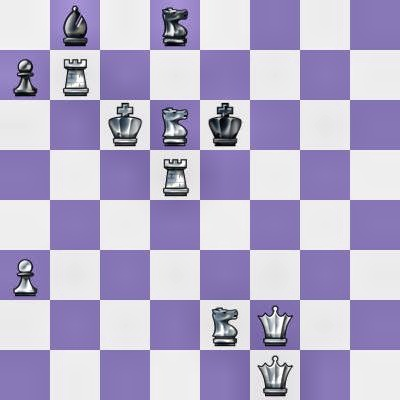black-bishop: (50, 0, 100, 50)
black-king: (200, 100, 250, 150)
black-knight: (150, 0, 200, 50)
black-pawn: (0, 50, 50, 100)
white-king: (100, 100, 150, 150)
white-knight: (150, 100, 200, 150), (200, 300, 250, 350)
white-pawn: (0, 250, 50, 300)
white-queen: (250, 300, 300, 350), (250, 350, 300, 400)
white-rook: (50, 50, 100, 100), (150, 150, 200, 200)
